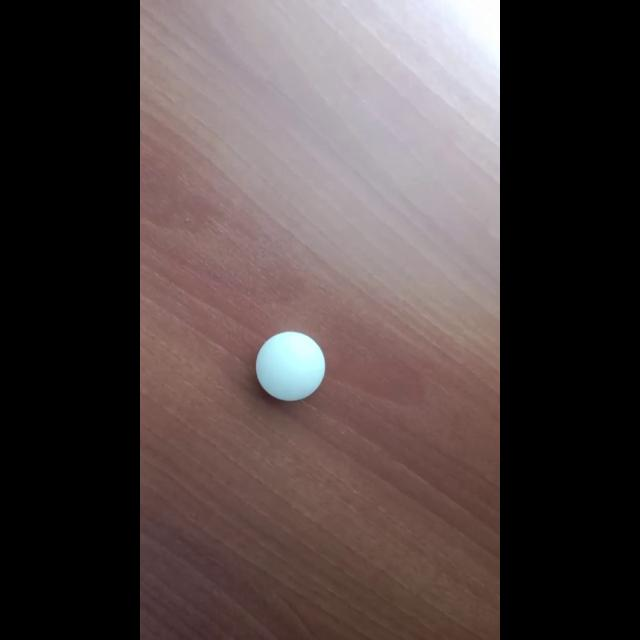white ball: (254, 330, 326, 402)
